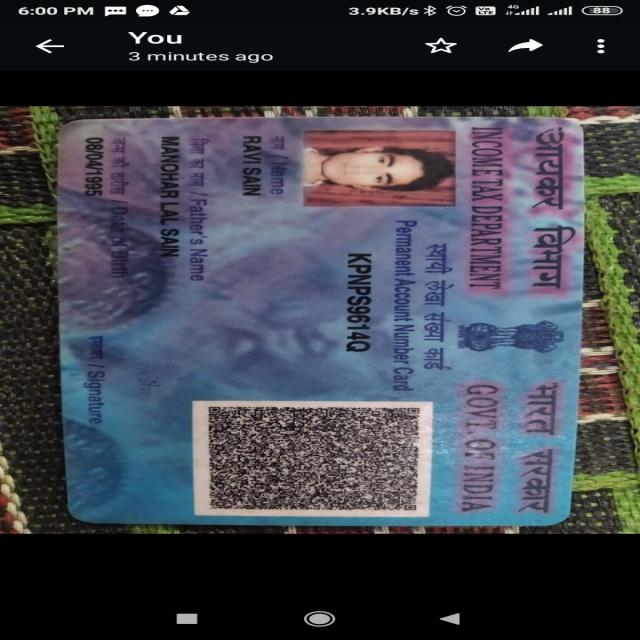pan_card: (55, 118, 574, 522)
